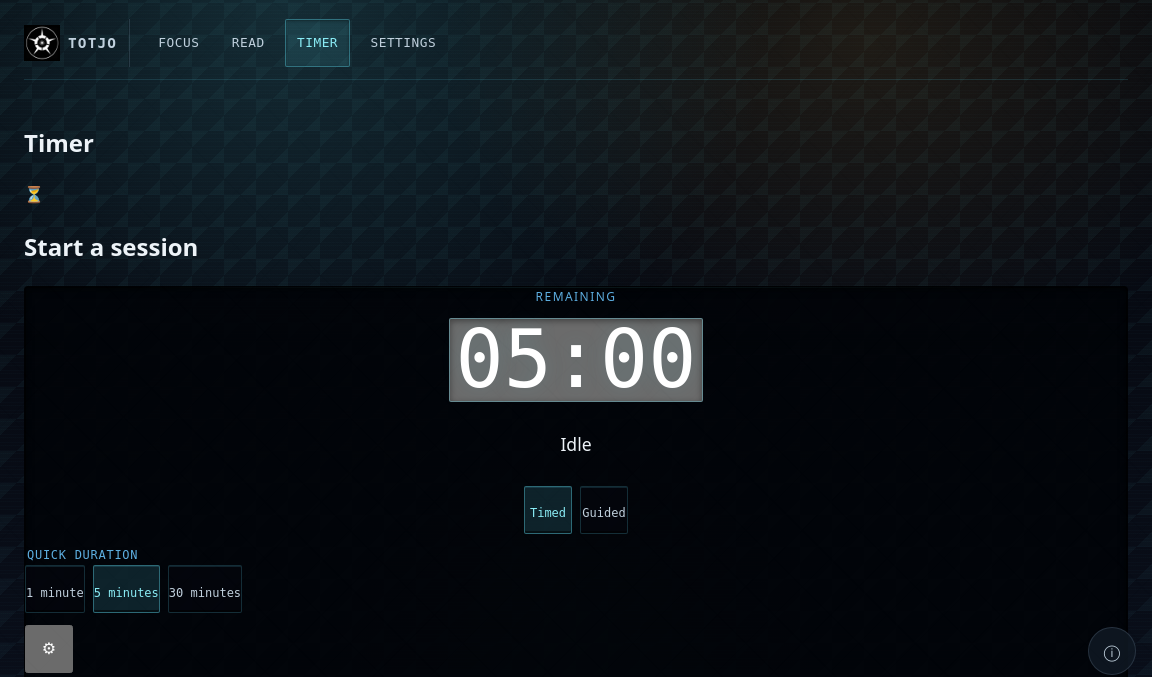
timer page layout › shows inline controls and presets with a clear primary action
Expected: the heading with test id "page-title" reads "Timer", [24, 126, 94, 159]
Expected: the heading "Start a session" is shown, [24, 230, 198, 263]
Click the button with test id "timer-advanced-toggle" showing "⚙" at (49, 649), box [25, 625, 73, 673]
(page scrolled)
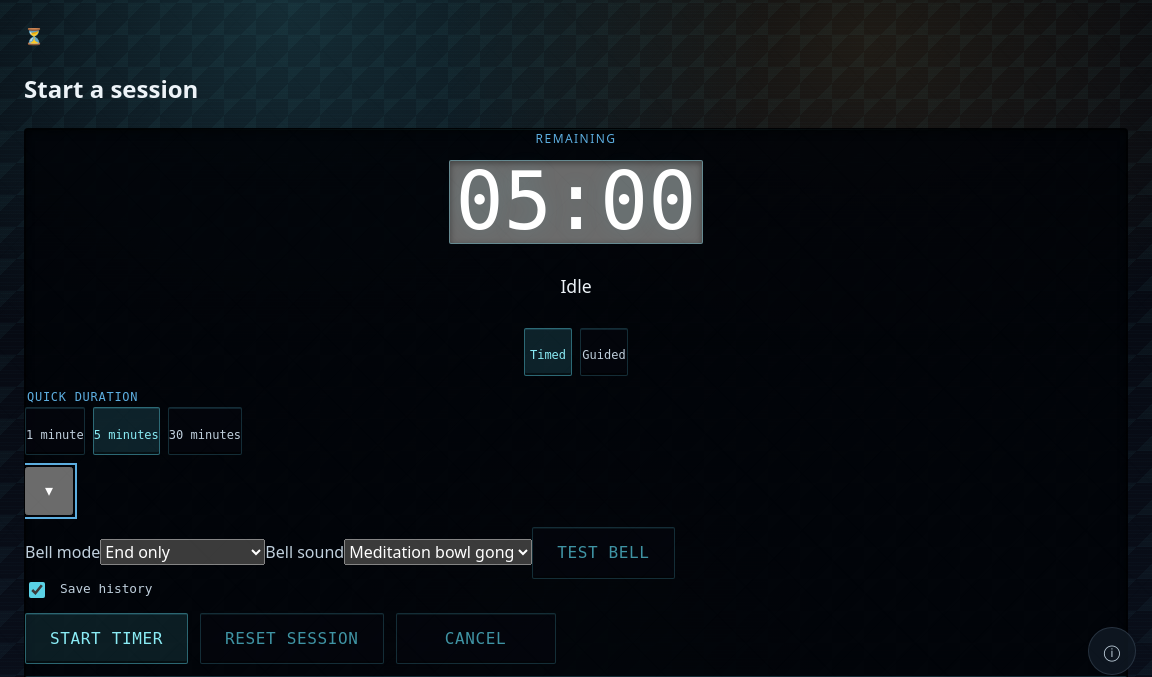
Result: the dropdown with test id "timer-cue-mode" is shown at [100, 539, 265, 565]
Result: the dropdown with test id "timer-sound-profile" is shown at [344, 539, 532, 565]
Result: the button with test id "timer-test-bell" is shown at [532, 527, 675, 579]
